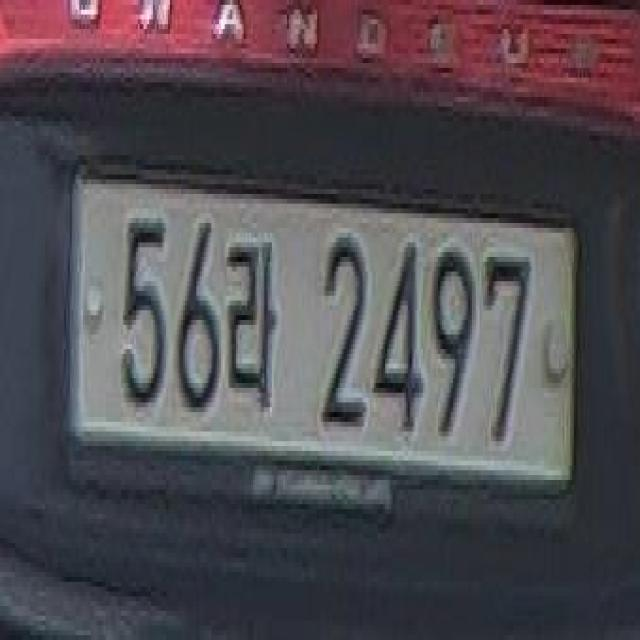illegal_plate: (70, 165, 583, 530)
